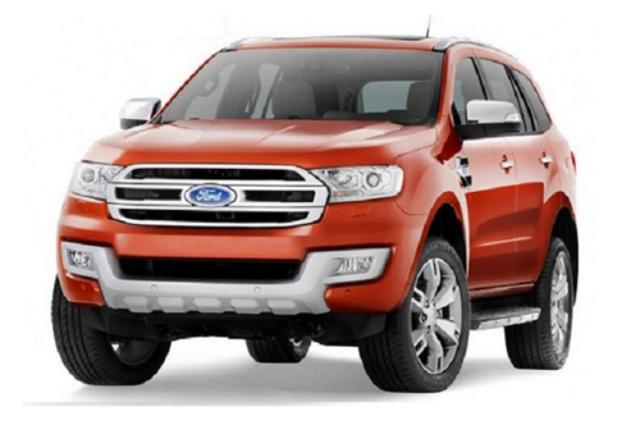ford: (51, 14, 579, 394)
